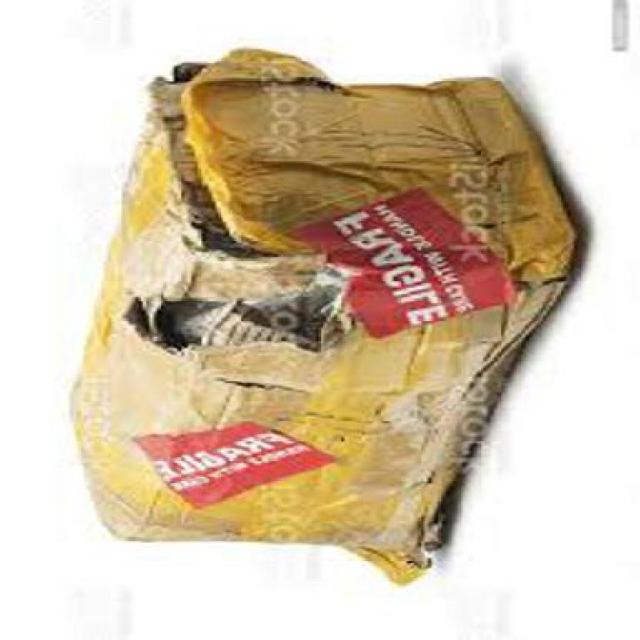defect: (63, 43, 589, 588)
